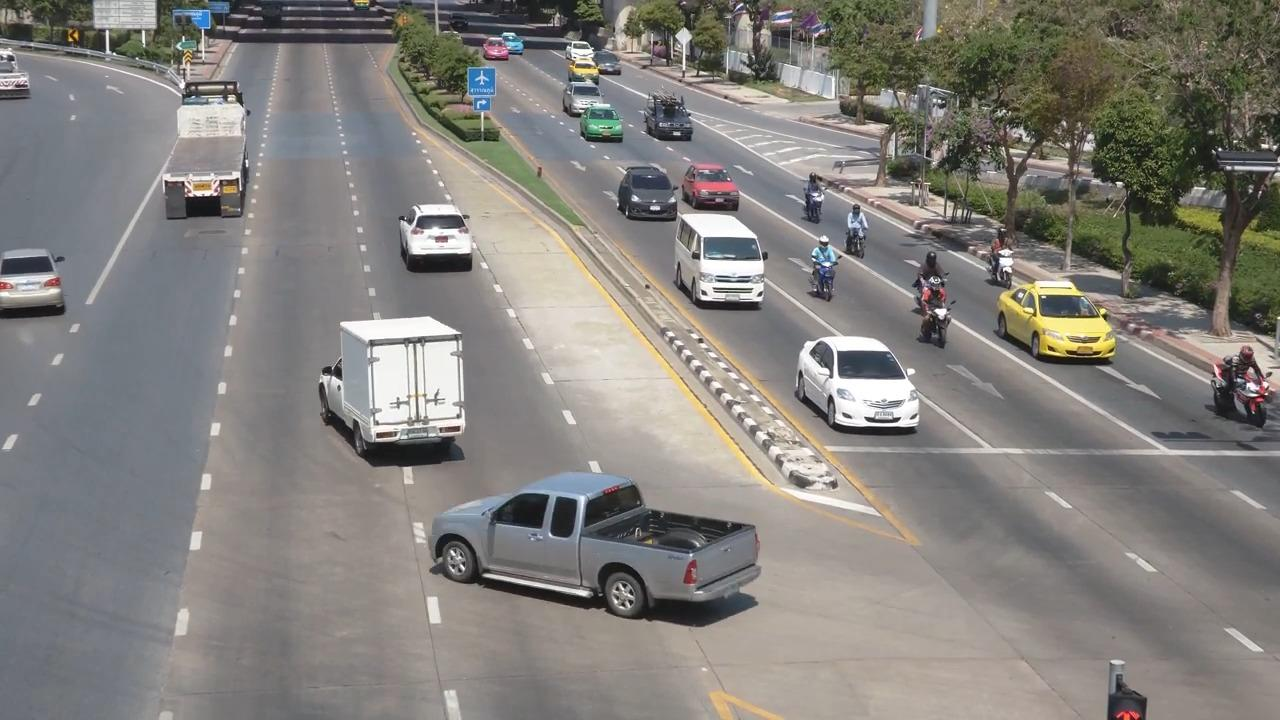CAR: (421, 458, 774, 640), (317, 309, 478, 469), (794, 317, 922, 434), (993, 273, 1129, 377), (667, 206, 769, 316), (393, 189, 496, 285), (0, 237, 75, 333), (0, 40, 56, 121), (618, 156, 683, 222), (677, 160, 744, 211), (641, 95, 698, 146), (575, 99, 626, 142), (553, 37, 603, 71)
HGV_BUS: (140, 59, 277, 239)
MOTOR: (1200, 338, 1280, 435), (905, 272, 967, 349), (833, 203, 874, 261), (799, 236, 837, 297), (981, 228, 1019, 289), (793, 168, 828, 226)
